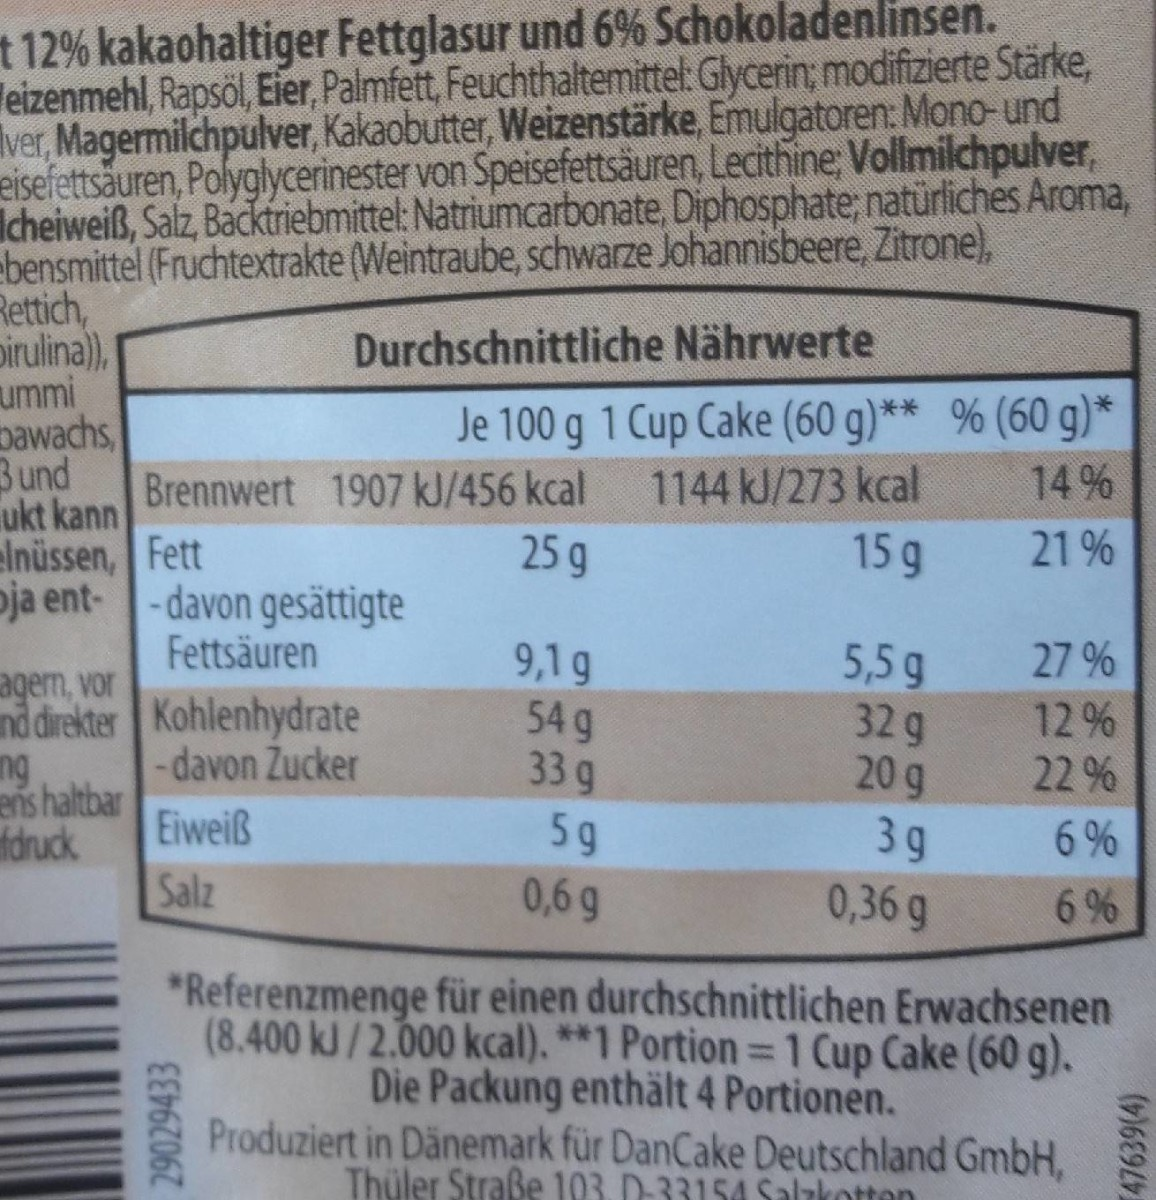column: (602, 382, 942, 947), (331, 385, 602, 943), (126, 393, 404, 933), (948, 380, 1135, 956)
table: (119, 386, 1140, 944)
